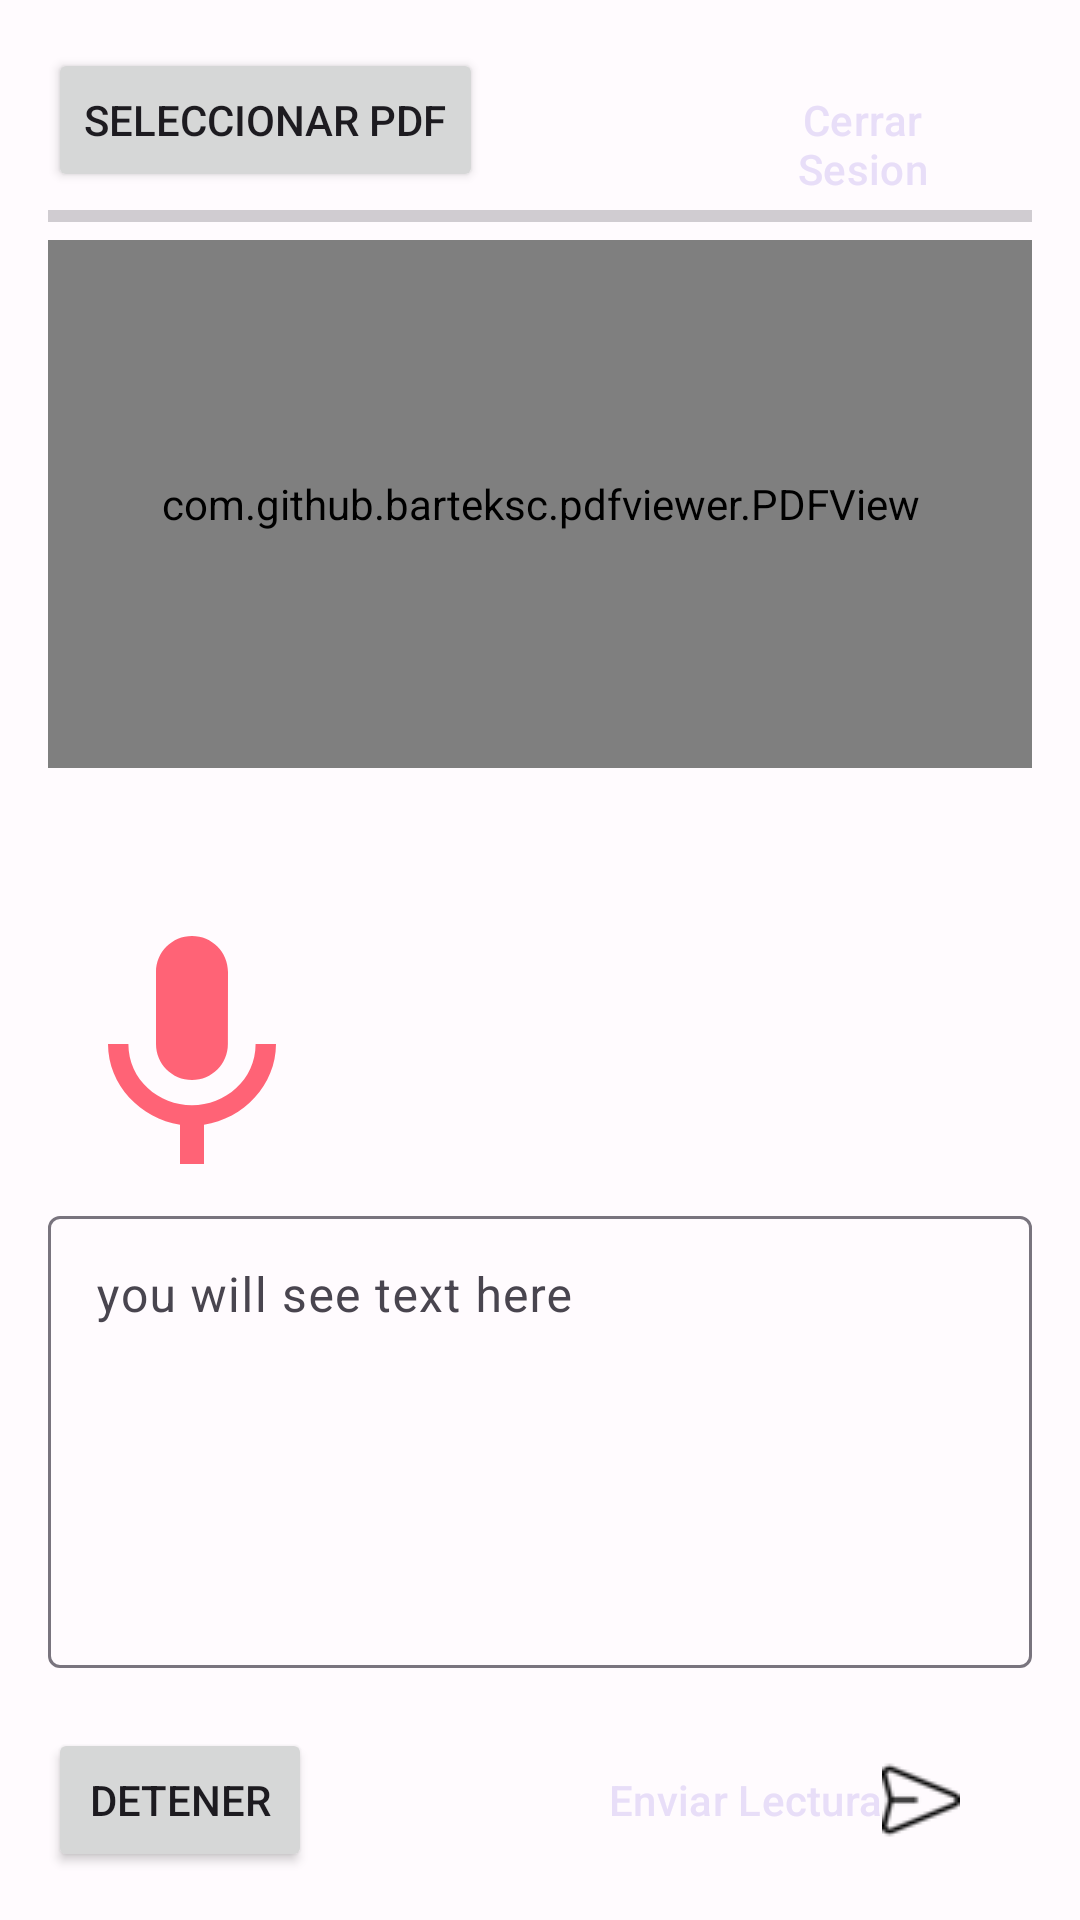

Icons on this 1080px x 1920px Android screen, each with its box as (x1, y1, x2, y2):
mic: (108, 936, 276, 1164)
